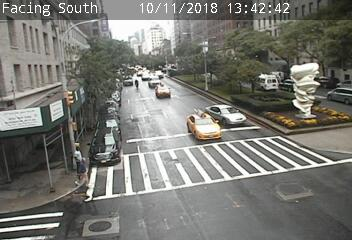car: (89, 127, 120, 164), (187, 113, 222, 141), (205, 104, 246, 125), (252, 75, 279, 91), (327, 87, 352, 104), (279, 79, 303, 94), (155, 84, 171, 98), (148, 76, 161, 87)
